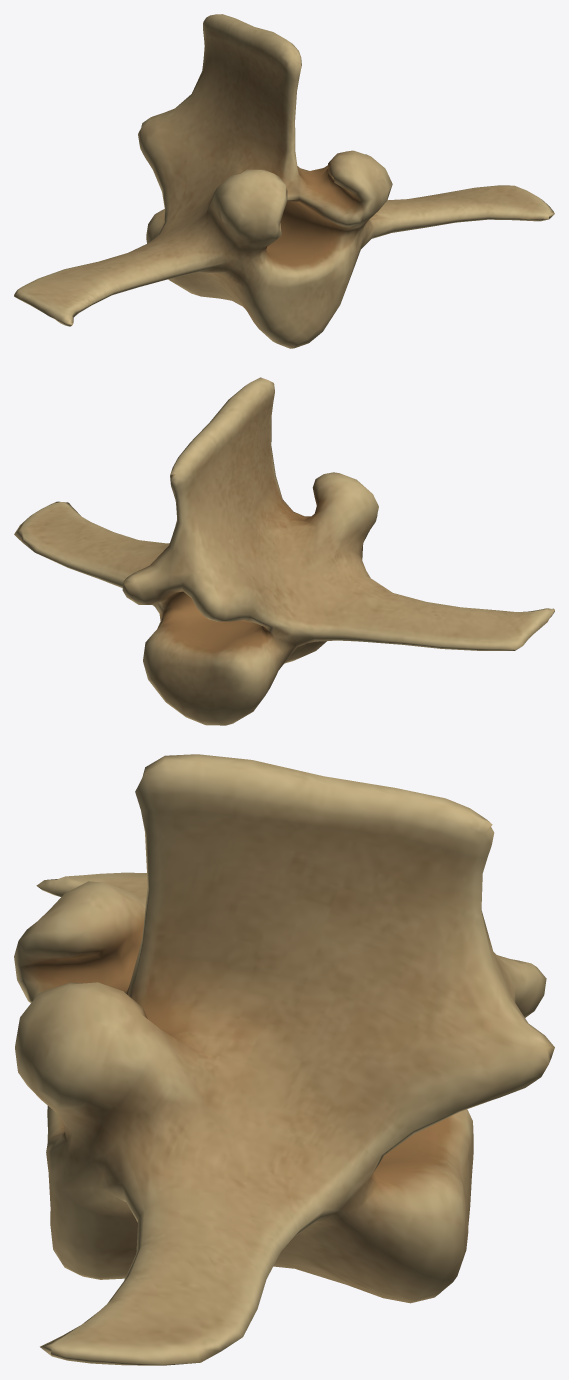
3 renders of one model, top to bottom at view 1: azimuth 30°, elevation 25°; view 2: azimuth 150°, elevation 25°; view 3: azimuth 270°, elevation 25°, orthographic. The views are drawn at different scales.
Parts seen in each view (by area): view 1: L2.001; view 2: L2.001; view 3: L2.001.
Part boxes in pixels (x1,y1,x2,y2): L2.001: [14, 14, 554, 348]; L2.001: [14, 377, 554, 725]; L2.001: [14, 754, 554, 1365].
Bounding box in the file's own units: 129 × 70.72 × 63.
Materials: 1 (1 with a texture image).
